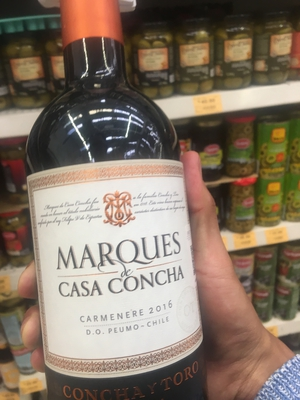marques de casa concha carmenere: (23, 39, 204, 399)
